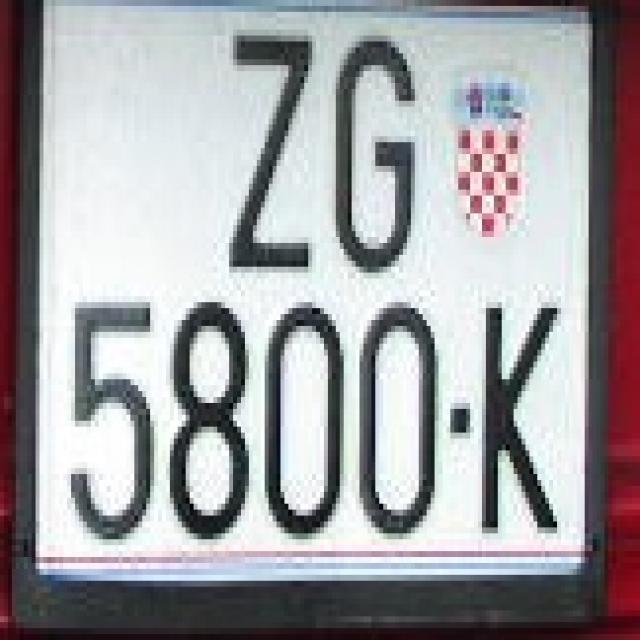0: (356, 284, 438, 540), (264, 290, 344, 540)
5: (63, 284, 150, 534)
8: (162, 290, 249, 546)
G: (328, 24, 423, 272)
K: (474, 290, 565, 546)
Z: (221, 18, 312, 266)
